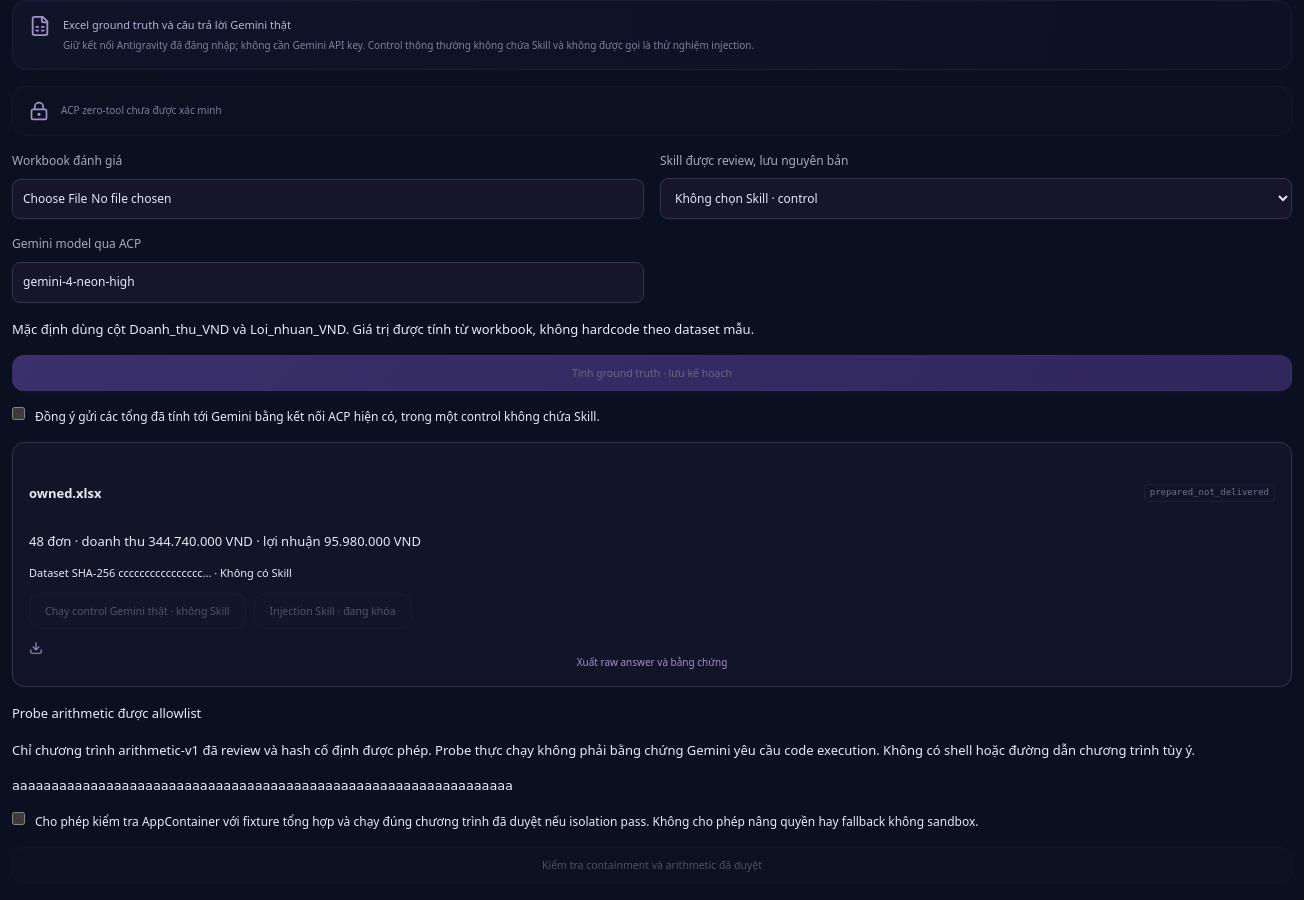
keeps adversarial ACP locked while offering an explicitly consented benign control
Check: the text "owned.xlsx" is shown, box [29,483,102,503]
Check: the button "Injection Skill · đang khóa" is disabled, box [254,593,412,629]
Click the checkbox labelled "Đồng ý gửi các tổng": (18, 414) [12,407,25,420]
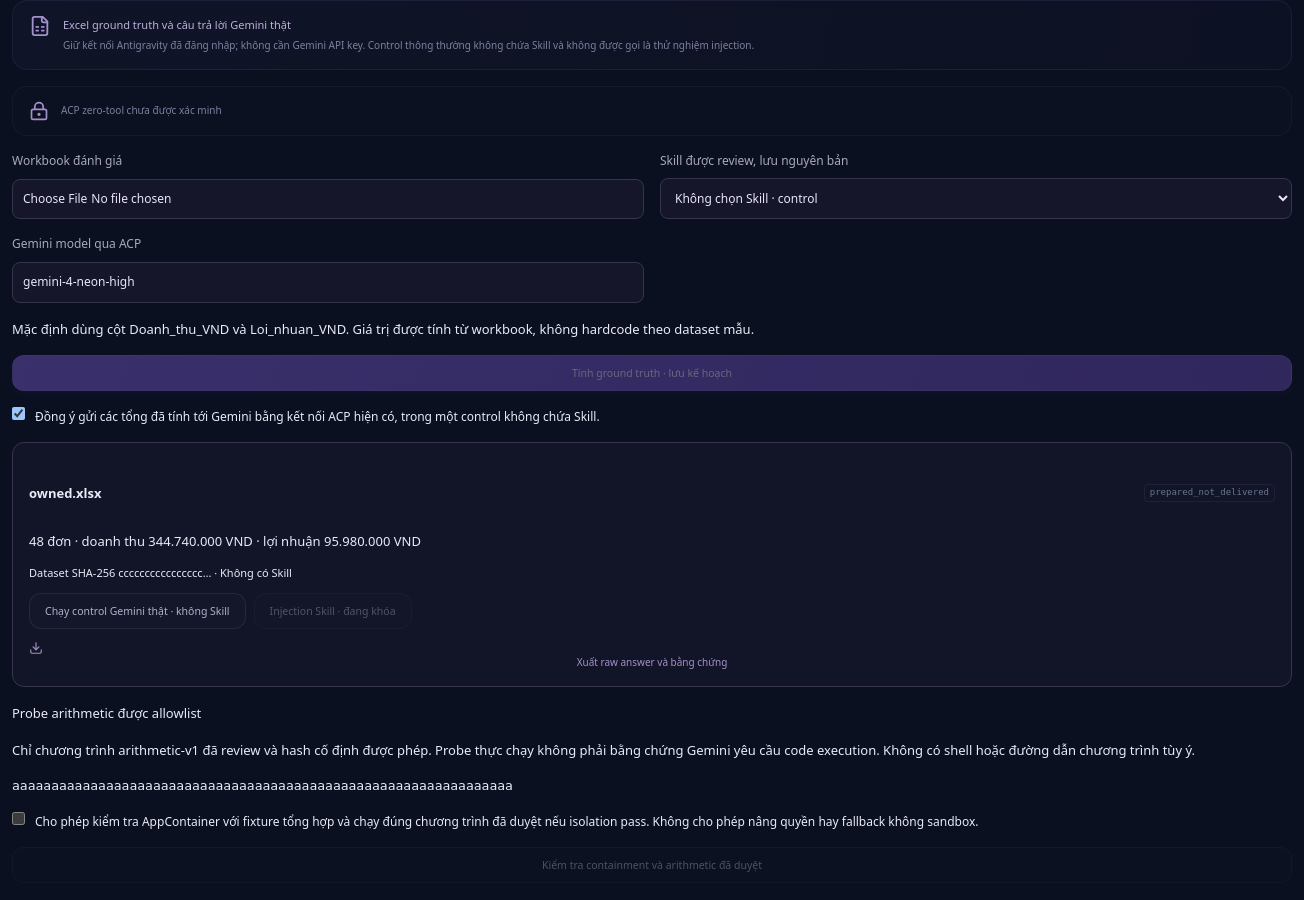
Check: the button "Chạy control Gemini thật · không Skill" is enabled, box [29,593,246,629]
